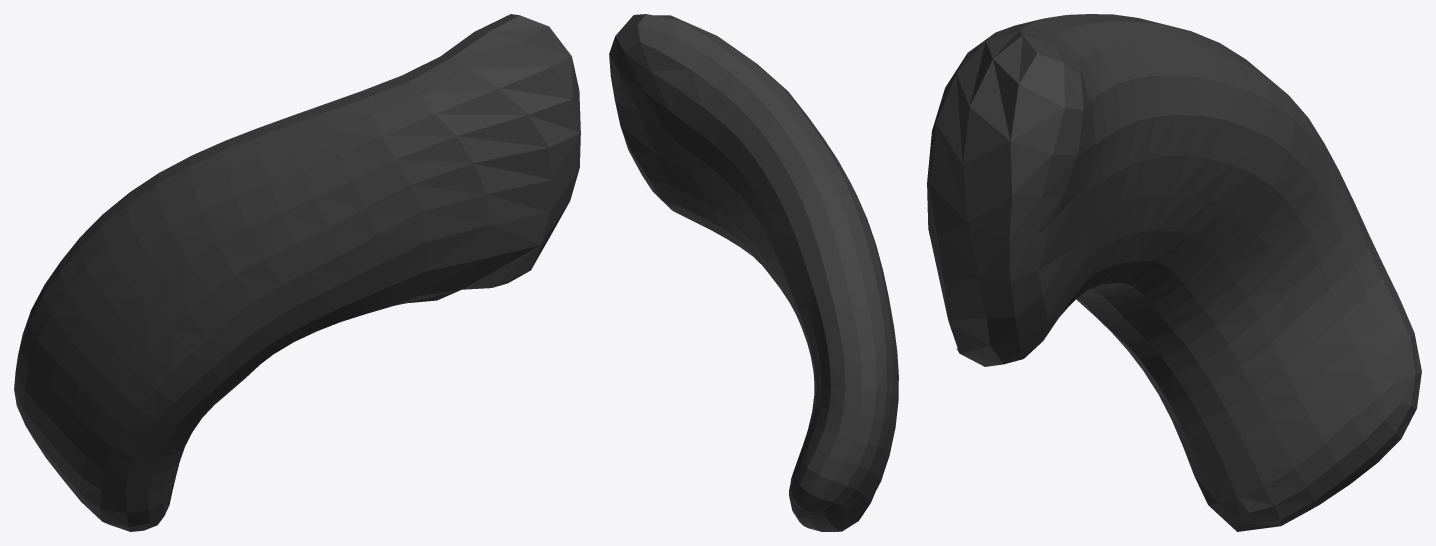
The model's file is Patellar_cartilage.glb.
The picture shows the model from 3 angles, left to right: view 1: azimuth 30°, elevation 25°; view 2: azimuth 150°, elevation 25°; view 3: azimuth 270°, elevation 25°; orthographic projection. The views are drawn at different scales.
Parts seen in each view (by area): view 1: Patellar_cartilage; view 2: Patellar_cartilage; view 3: Patellar_cartilage.
Part boxes in pixels (box(x1,y1,x2,y2)): Patellar_cartilage: box(14, 14, 580, 531); Patellar_cartilage: box(609, 14, 898, 531); Patellar_cartilage: box(927, 14, 1421, 531).
Size of the model in its own units: 0.8951 by 0.96 by 0.6413.
1 material, 1 textured.
